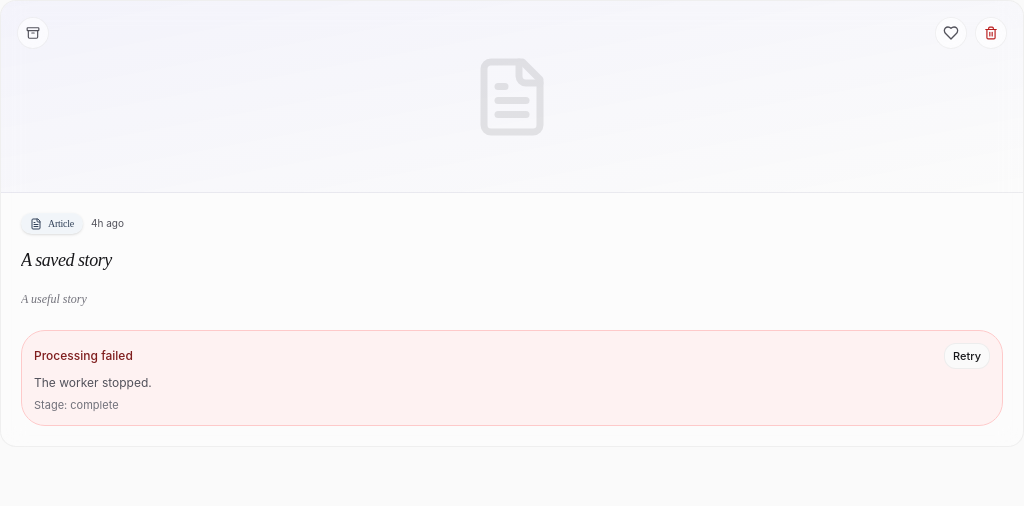
Test: ItemCard recovery actions › explains duplicate retries instead of silently doing nothing
Click the button with aria-label "Retry processing".
click(967, 356)  # box [944, 342, 990, 369]
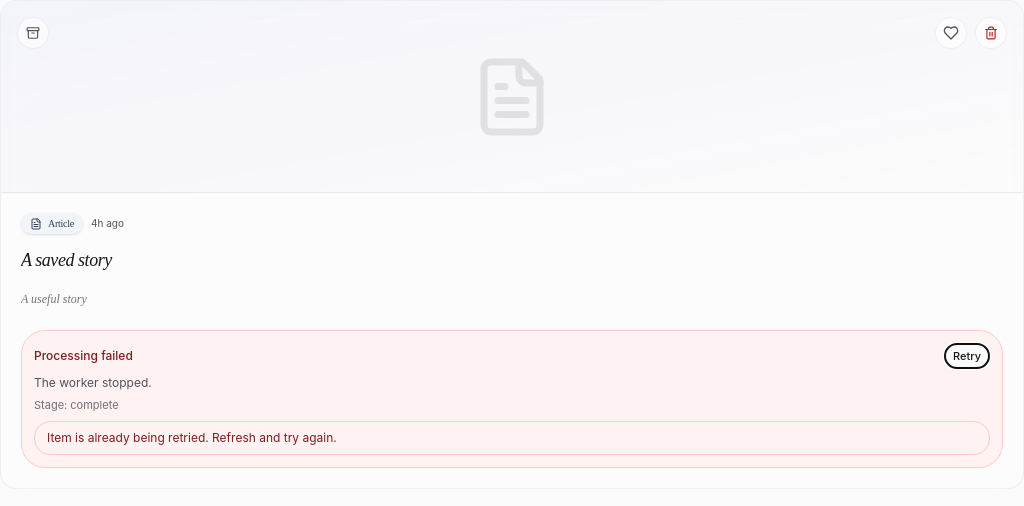
Result: the message shows "already being retried" at [47, 430, 337, 445]
